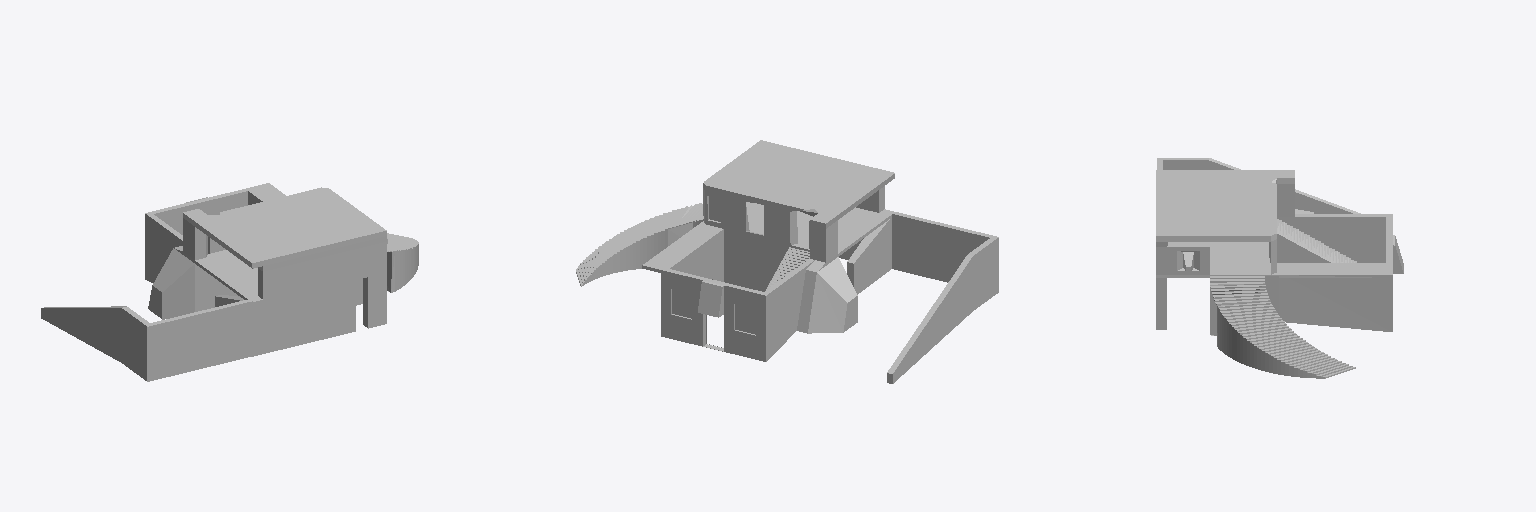
The model's file is House v04.obj.
The picture shows the model from 3 angles: view 1: azimuth 30°, elevation 25°; view 2: azimuth 150°, elevation 25°; view 3: azimuth 270°, elevation 25°; orthographic projection.
Parts seen in each view (by area): view 1: House v04; view 2: House v04; view 3: House v04.
Part boxes in pixels (x1,y1,x2,y2): House v04: (41, 183, 418, 381); House v04: (576, 140, 998, 383); House v04: (1156, 158, 1403, 378).
Size of the model in its own units: 32.19 by 9.76 by 20.29.